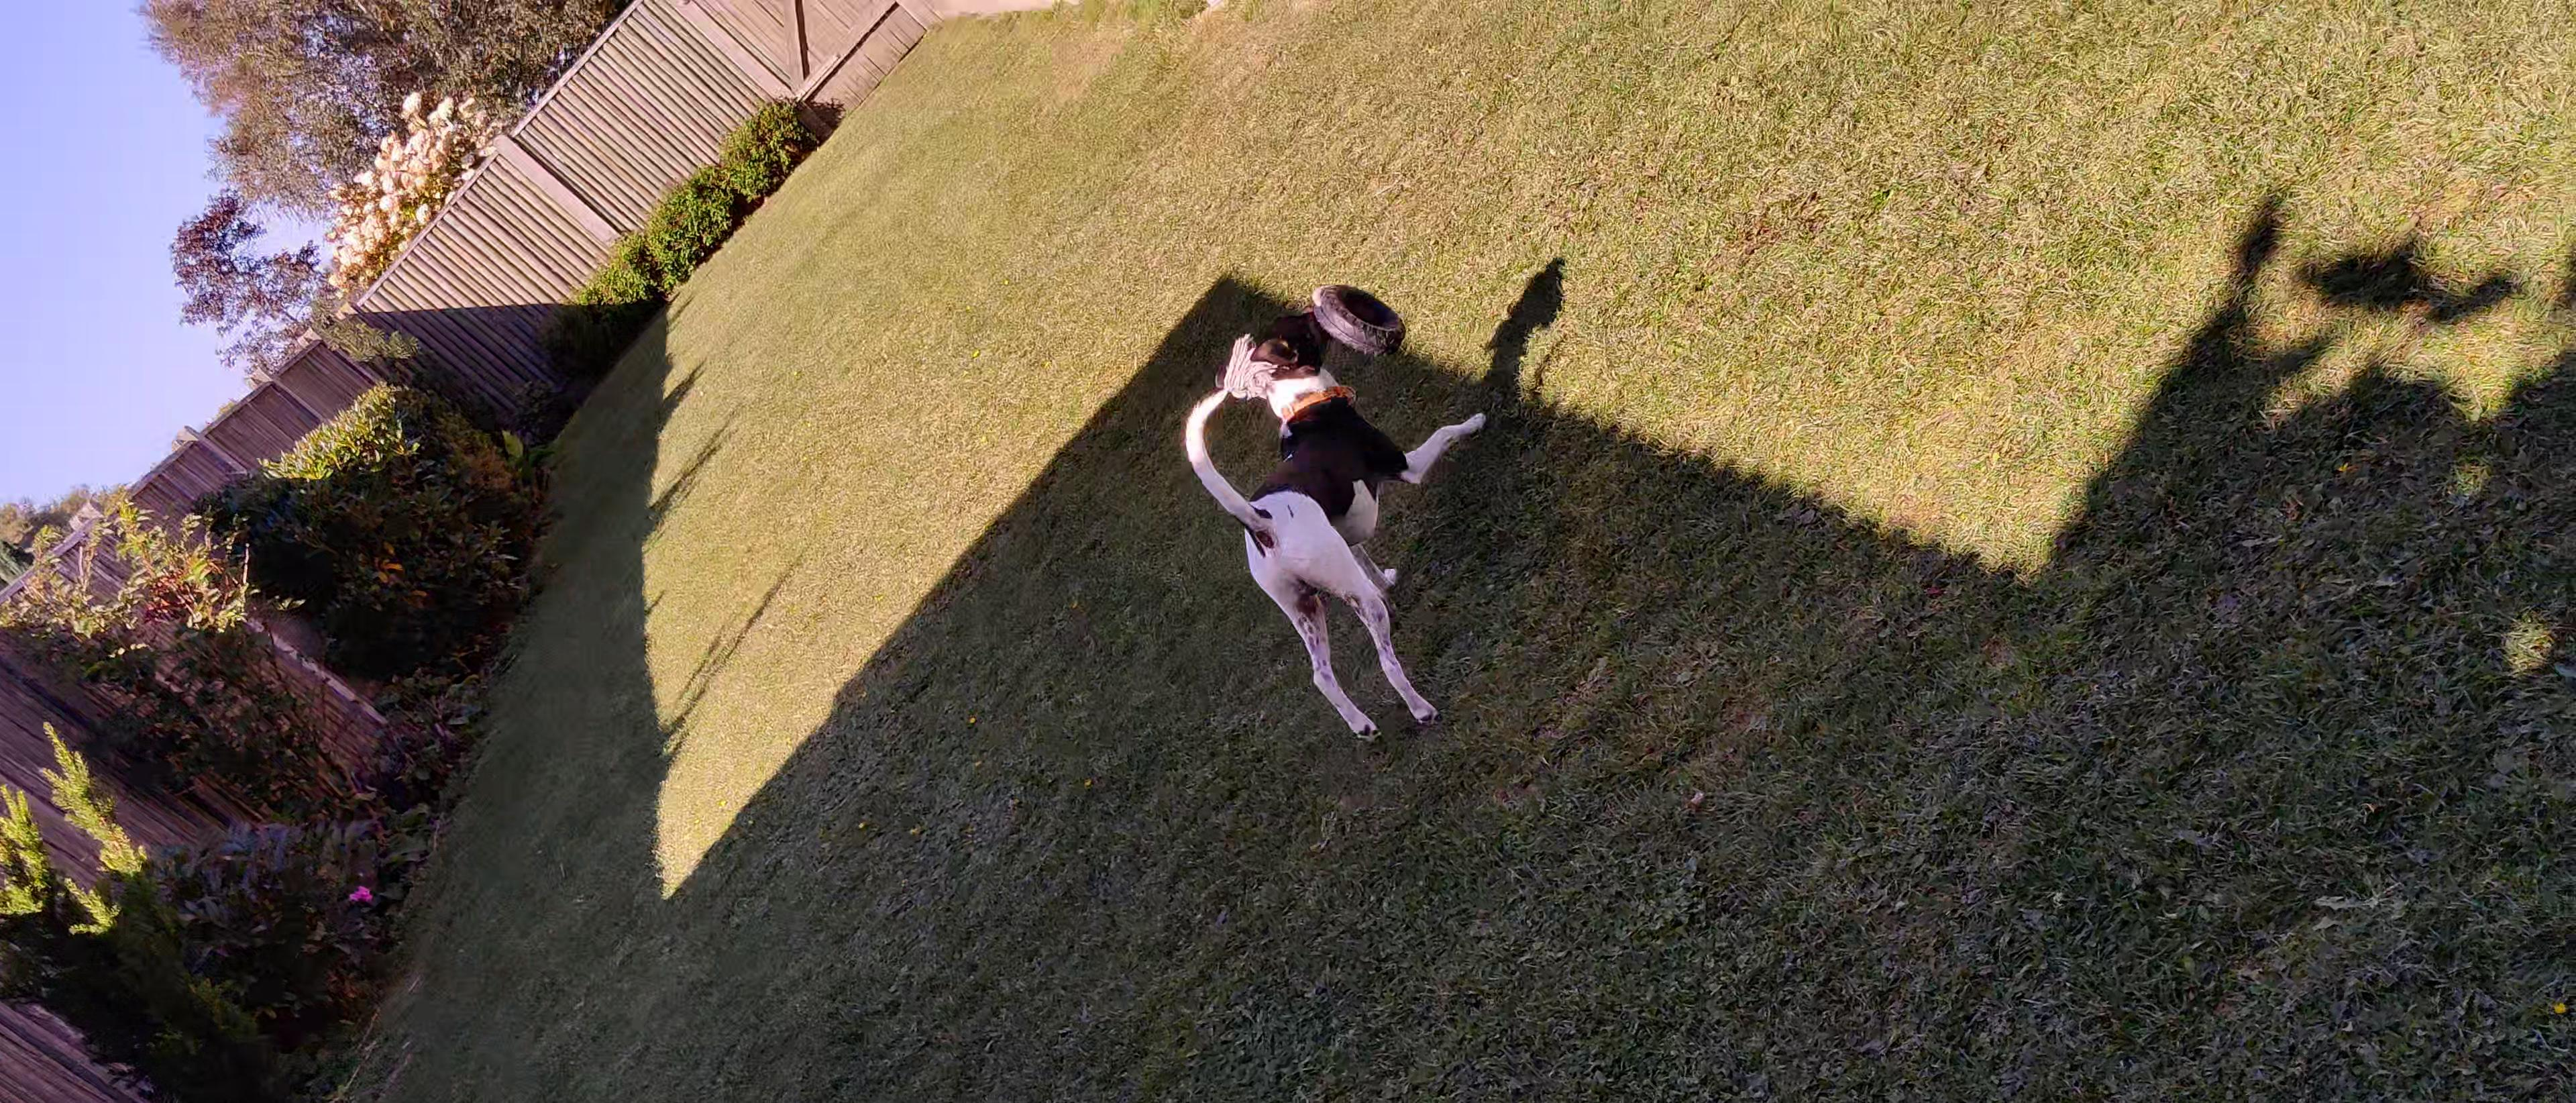Dog: (1175, 299, 1488, 743)
